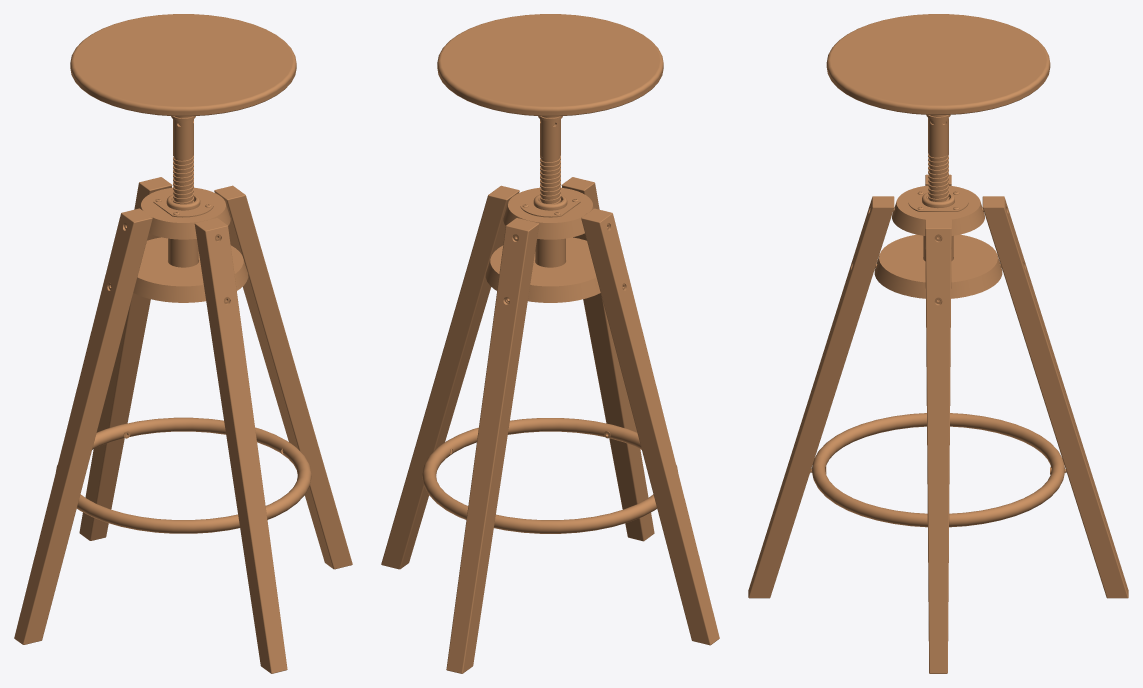
File: DALFRED_cartoon.glb
3 views of the same model, side by side, from view 1: azimuth 30°, elevation 25°; view 2: azimuth 150°, elevation 25°; view 3: azimuth 270°, elevation 25° (orthographic).
Parts seen in each view (by area): view 1: seat_seat, base_leg_3, base_leg_2, base_leg_4, base_leg_1, base_ringRail, base_circleDown, base_circleUpp, seat_pole, base_supportPin; view 2: seat_seat, base_leg_1, base_leg_2, base_leg_4, base_leg_3, base_ringRail, base_circleDown, base_circleUpp, seat_pole, base_supportPin; view 3: seat_seat, base_leg_4, base_leg_1, base_leg_3, base_ringRail, base_circleDown, base_circleUpp, seat_pole, base_supportPin.
Boxes of the visible parts, x1,y1,x2,y2 form: seat_seat: [70, 14, 296, 116]; base_leg_3: [194, 218, 287, 673]; base_leg_2: [14, 208, 152, 644]; base_leg_4: [214, 185, 352, 569]; base_leg_1: [79, 177, 172, 540]; base_ringRail: [56, 417, 311, 533]; base_circleDown: [133, 237, 248, 302]; base_circleUpp: [139, 187, 230, 239]; seat_pole: [171, 116, 195, 204]; base_supportPin: [153, 191, 213, 267]; seat_seat: [437, 14, 663, 116]; base_leg_1: [446, 218, 539, 673]; base_leg_2: [581, 208, 719, 645]; base_leg_4: [381, 185, 519, 569]; base_leg_3: [561, 177, 654, 541]; base_ringRail: [422, 418, 677, 533]; base_circleDown: [485, 237, 600, 302]; base_circleUpp: [503, 187, 594, 239]; seat_pole: [538, 116, 562, 204]; base_supportPin: [520, 191, 580, 267]; seat_seat: [826, 14, 1050, 114]; base_leg_4: [925, 219, 951, 673]; base_leg_1: [982, 196, 1128, 598]; base_leg_3: [748, 196, 894, 598]; base_ringRail: [812, 413, 1064, 527]; base_circleDown: [874, 234, 1002, 298]; base_circleUpp: [892, 185, 984, 235]; seat_pole: [926, 115, 950, 201]; base_supportPin: [908, 191, 968, 261].
Size of the model in its own units: 0.4962 by 0.7783 by 0.5015.
